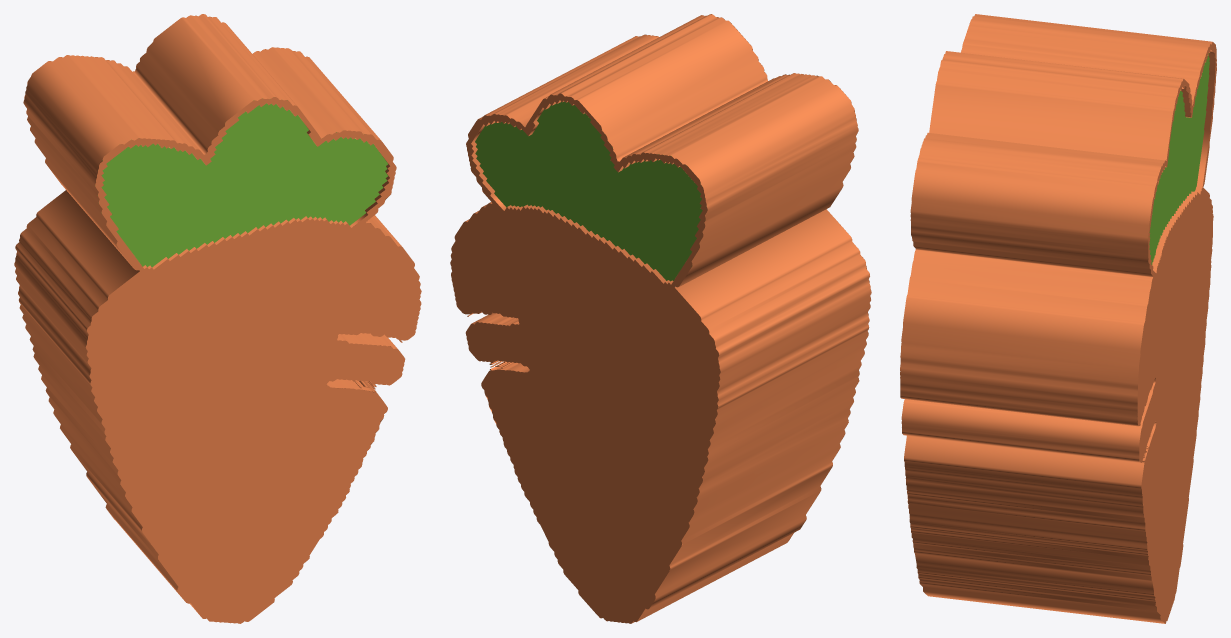
Rendered from NewCarrot(3).fbx.
The picture shows the model from 3 angles, left to right: view 1: azimuth 30°, elevation 25°; view 2: azimuth 150°, elevation 25°; view 3: azimuth 270°, elevation 25°; orthographic projection. The views are drawn at different scales.
Parts seen in each view (by area): view 1: Curve.003, Curve.002; view 2: Curve.003, Curve.002; view 3: Curve.003, Curve.002.
Boxes of the visible parts, left/top/right/bottom form: Curve.003: left=14, top=14, right=421, bottom=623; Curve.002: left=95, top=98, right=387, bottom=267; Curve.003: left=450, top=14, right=871, bottom=623; Curve.002: left=475, top=101, right=702, bottom=281; Curve.003: left=900, top=14, right=1216, bottom=623; Curve.002: left=1149, top=53, right=1209, bottom=264.
Size of the model in its own units: 69.78 by 102 by 52.29.
